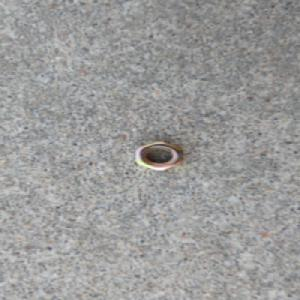Nut: (133, 140, 184, 171)
